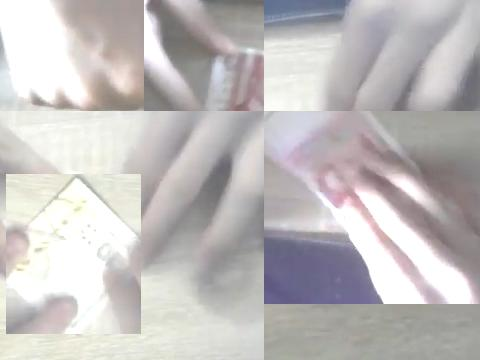10leva: (6, 174, 141, 334)
5leva: (264, 111, 480, 304), (60, 39, 264, 111), (144, 0, 264, 111)
